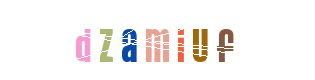A: (89, 0, 169, 80)
D: (58, 0, 138, 80)
F: (171, 0, 251, 80)
I: (120, 0, 200, 80)
M: (117, 0, 197, 80)
U: (141, 0, 221, 80)
Z: (80, 0, 160, 80)
